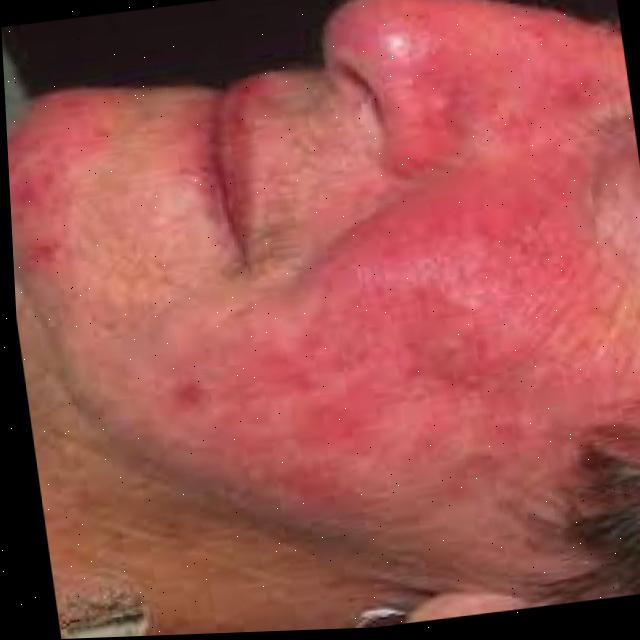Rosacea: (158, 201, 588, 489), (365, 0, 558, 133), (5, 92, 84, 263)
